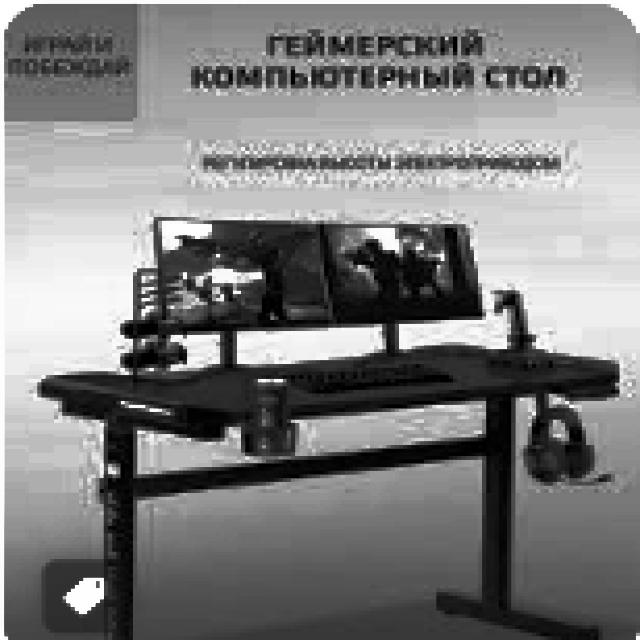table: (38, 342, 620, 636)
